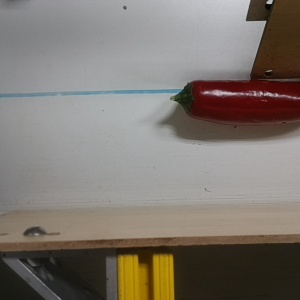Cut Point: (176, 79, 207, 120)
